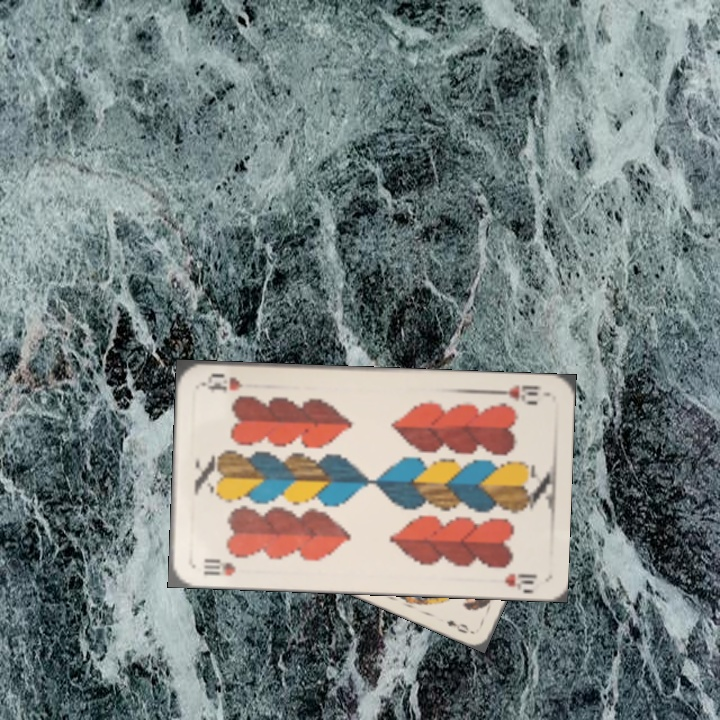H10: (490, 381, 543, 407), (199, 554, 238, 578)
